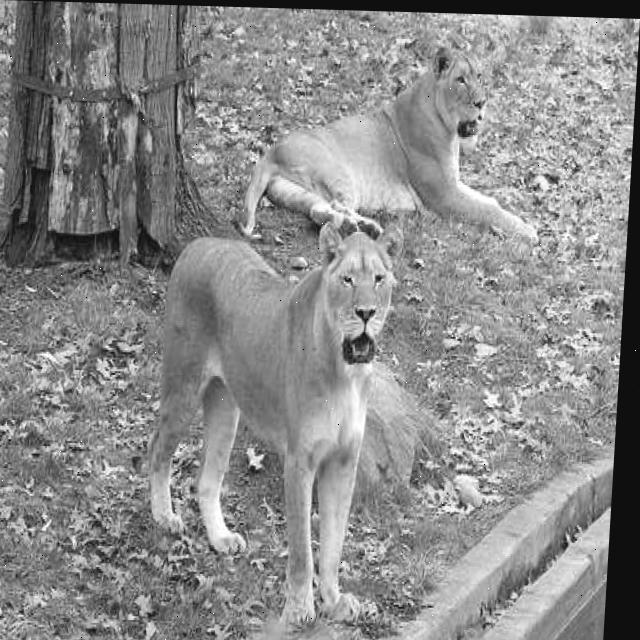Lion: (197, 189, 420, 616), (345, 48, 521, 211)
